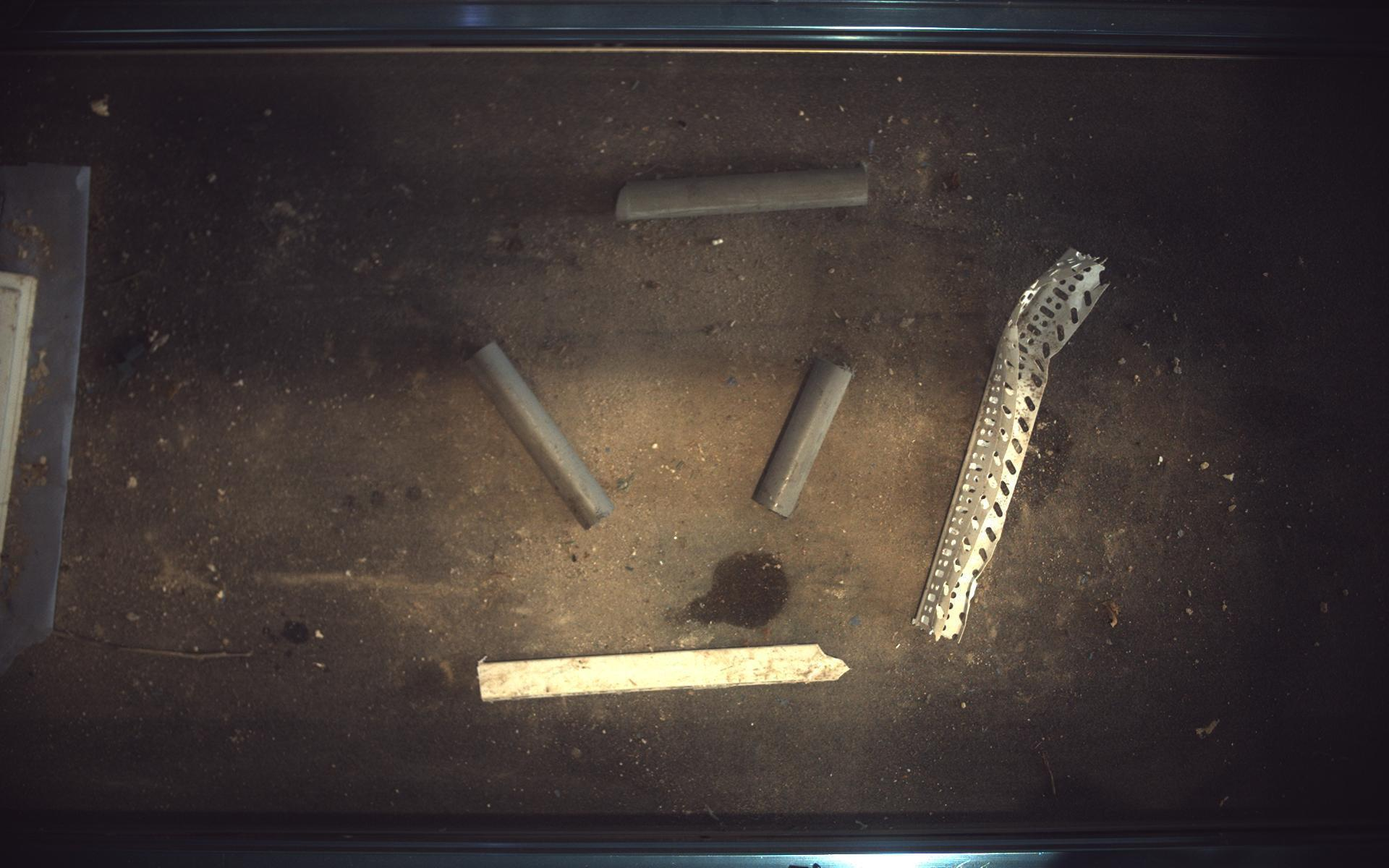pipes: (467, 341, 614, 529), (755, 358, 854, 518), (616, 165, 870, 221)
plastic: (915, 248, 1110, 641), (477, 645, 851, 703), (1, 271, 35, 553)
